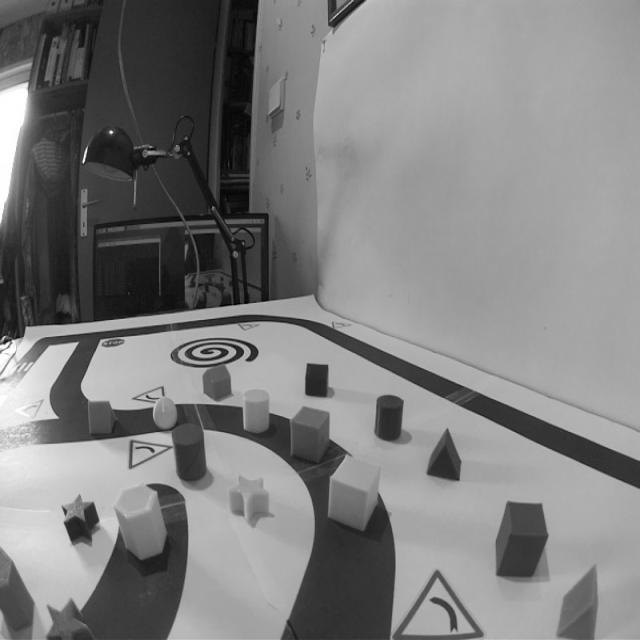ball: (150, 393, 180, 433)
cube: (491, 495, 550, 581), (287, 402, 333, 466)
cylinder: (324, 449, 383, 532), (169, 419, 211, 485), (371, 389, 406, 447), (241, 386, 272, 438)
hexagon: (113, 484, 172, 566)
home: (199, 362, 234, 406), (303, 358, 334, 399)
laneLeftTurn: (277, 443, 405, 640)
leftTurn: (384, 552, 485, 640)
nest: (167, 332, 263, 369)
star: (223, 471, 277, 530), (39, 596, 99, 640), (58, 494, 101, 550)
triangle: (555, 556, 606, 640), (424, 420, 465, 484), (84, 396, 121, 442)
